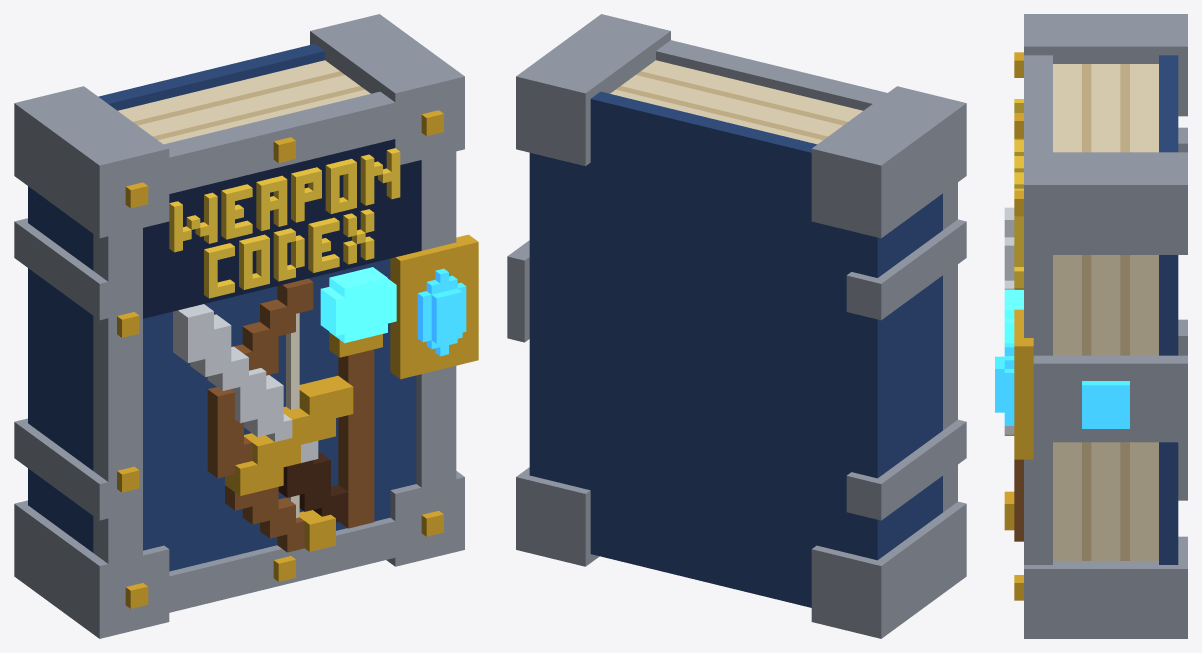
The model's file is Lobby_BookWeapons.glb.
3 views of the same model, side by side, from view 1: azimuth 30°, elevation 25°; view 2: azimuth 150°, elevation 25°; view 3: azimuth 270°, elevation 25° (orthographic). The views are drawn at different scales.
Visible parts, largest first — view 1: BookWeapons_steel, BookWeapons_navy, BookWeapons_gold, BookWeapons_navyDark, BookWeapons_goldBright, BookWeapons_wood, BookWeapons_page, BookWeapons_silver, BookWeapons_orbBlue, BookWeapons_gemBlue, BookWeapons_grip, BookWeapons_pageLine (+1 smaller); view 2: BookWeapons_navy, BookWeapons_steel, BookWeapons_page, BookWeapons_pageLine; view 3: BookWeapons_steel, BookWeapons_page, BookWeapons_navy, BookWeapons_pageLine, BookWeapons_gold, BookWeapons_gemBlue, BookWeapons_goldBright, BookWeapons_silver, BookWeapons_wood, BookWeapons_orbBlue.
Part boxes in pixels (box(x1,y1,x2,y2)): BookWeapons_steel: box(14, 14, 464, 638); BookWeapons_navy: box(28, 44, 416, 571); BookWeapons_gold: box(117, 110, 478, 608); BookWeapons_navyDark: box(143, 139, 421, 318); BookWeapons_goldBright: box(169, 148, 400, 298); BookWeapons_wood: box(207, 278, 374, 552); BookWeapons_page: box(118, 60, 370, 144); BookWeapons_silver: box(173, 304, 318, 462); BookWeapons_orbBlue: box(320, 267, 396, 343); BookWeapons_gemBlue: box(417, 268, 466, 356); BookWeapons_grip: box(278, 452, 348, 522); BookWeapons_pageLine: box(133, 71, 364, 139); BookWeapons_navy: box(529, 91, 942, 607); BookWeapons_steel: box(507, 14, 966, 638); BookWeapons_page: box(610, 60, 862, 144); BookWeapons_pageLine: box(616, 71, 847, 139); BookWeapons_steel: box(1024, 14, 1187, 638); BookWeapons_page: box(1053, 64, 1158, 560); BookWeapons_navy: box(1159, 55, 1178, 564); BookWeapons_pageLine: box(1082, 64, 1129, 560); BookWeapons_gold: box(1004, 52, 1033, 600); BookWeapons_gemBlue: box(995, 343, 1129, 428); BookWeapons_goldBright: box(1014, 99, 1023, 288); BookWeapons_silver: box(1004, 207, 1014, 434); BookWeapons_wood: box(1014, 288, 1023, 541); BookWeapons_orbBlue: box(1004, 289, 1023, 343).
Size of the model in its own units: 0.88 by 1.04 by 0.4.
